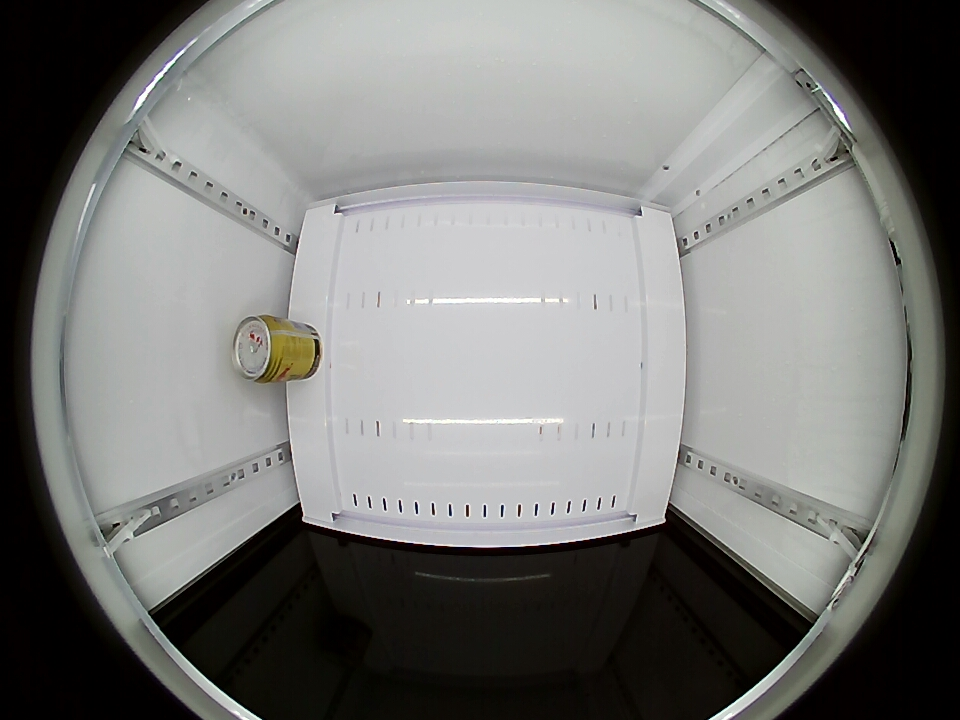hongniu2: (232, 314, 289, 384)
